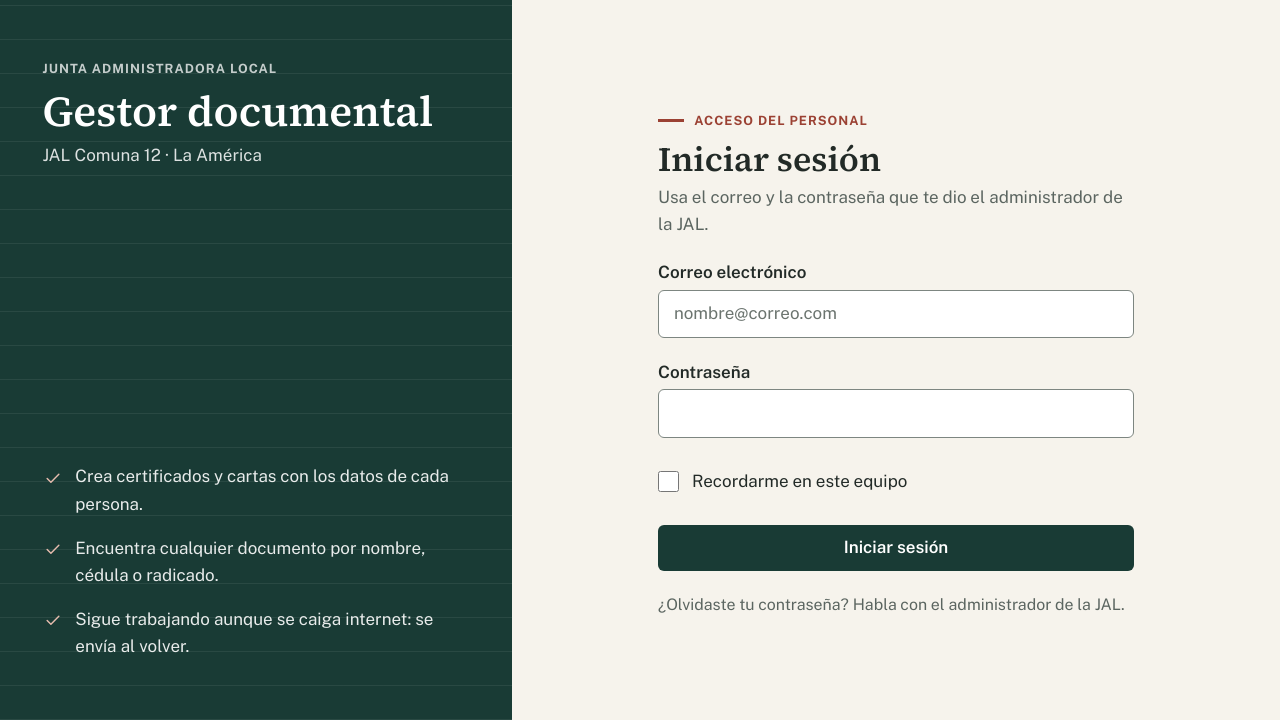
Test: LoginPage — manejo de errores › muestra "Correo o contraseña incorrectos" en un error 401
This screenshot has width=1280, height=720.
Type "auxiliar@jal.gov.co" into the field labelled "Correo electrónico" at (896, 314), box [658, 290, 1134, 338]
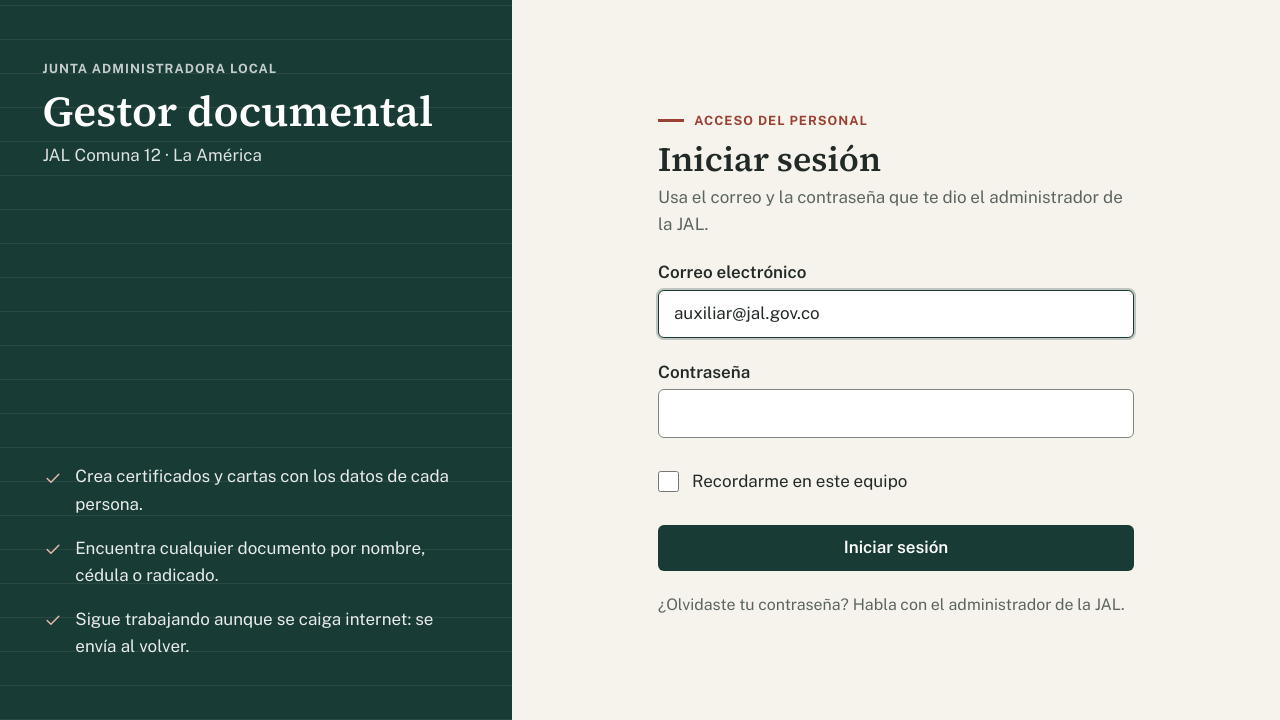
Type "secreto123" into the password field labelled "Contraseña" at (896, 414), box [658, 389, 1134, 438]
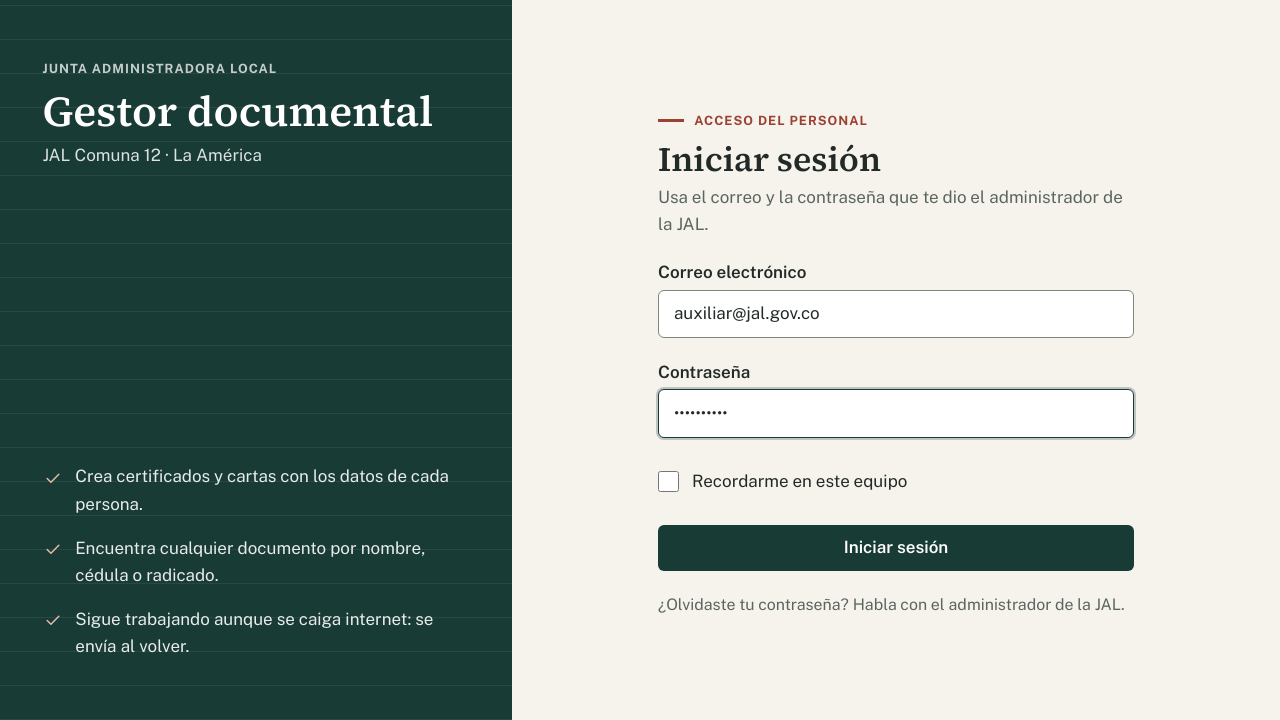
Click the button "Iniciar sesión" at (896, 548), box [658, 525, 1134, 571]
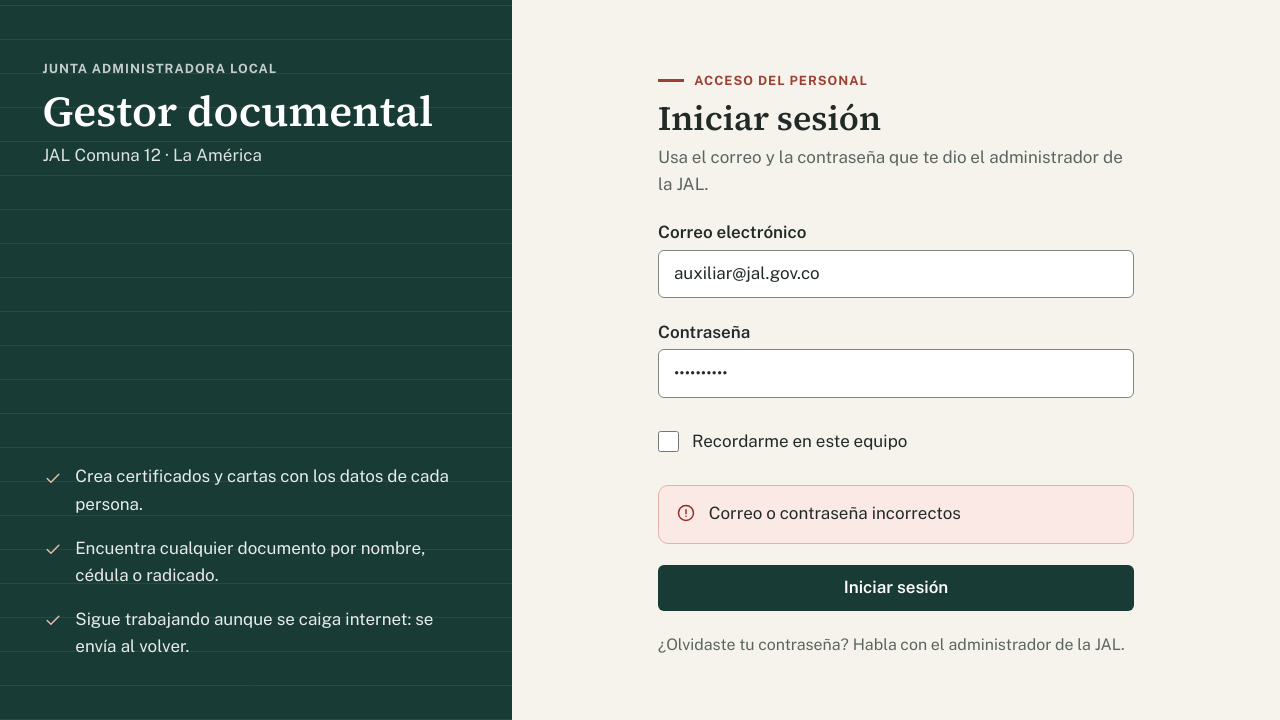
Result: the message reads "Correo o contraseña incorrectos" at [709, 503, 961, 523]
